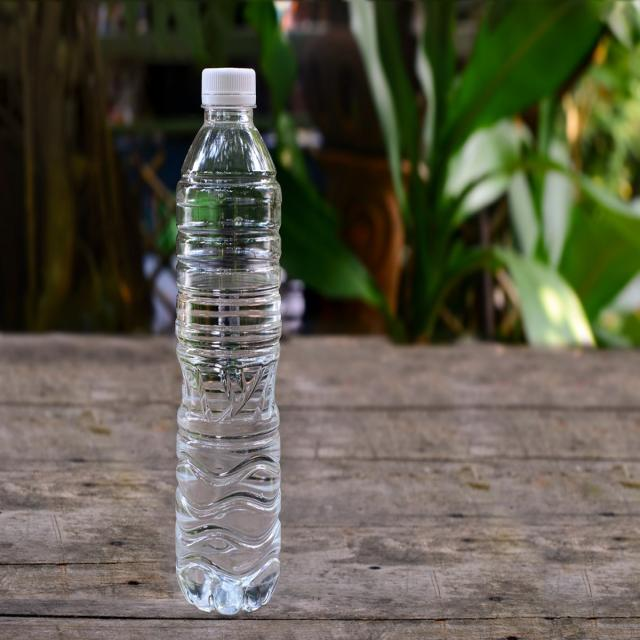bottle: (172, 68, 292, 616)
